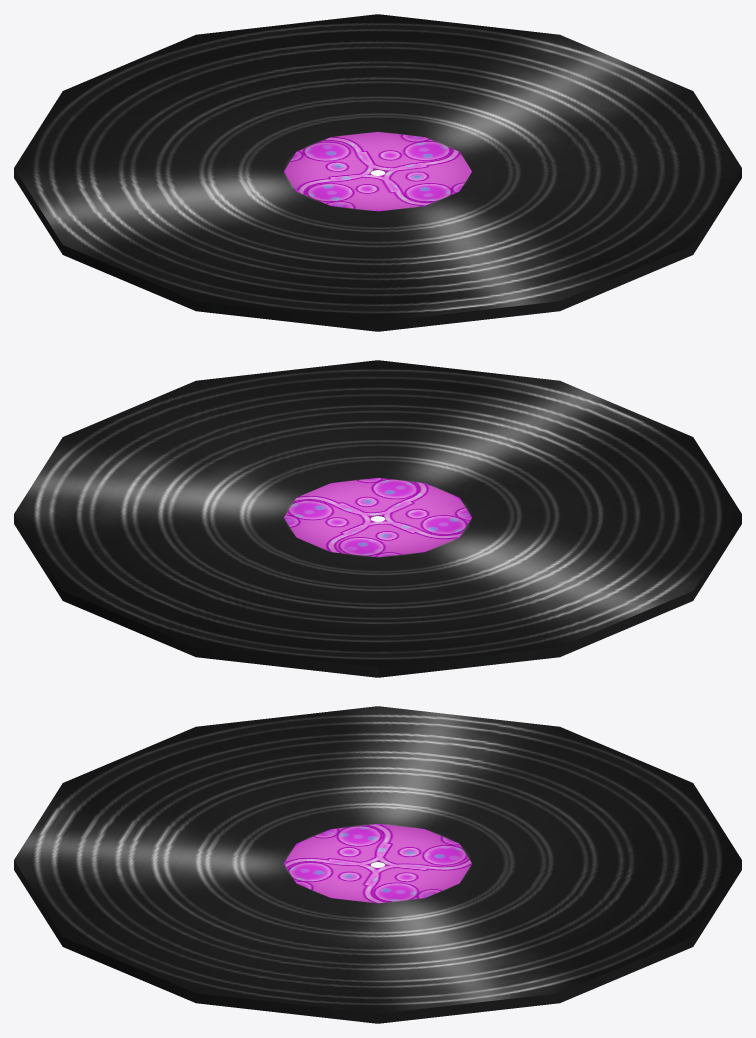
Rendered from Vinyl_07.FBX.
The picture shows the model from 3 angles, top to bottom: view 1: azimuth 30°, elevation 25°; view 2: azimuth 150°, elevation 25°; view 3: azimuth 270°, elevation 25°; orthographic projection.
Parts seen in each view (by area): view 1: Vinyl; view 2: Vinyl; view 3: Vinyl.
Boxes of the visible parts, x1=… form: Vinyl: x1=14, y1=14, x2=741, y2=331; Vinyl: x1=14, y1=360, x2=741, y2=677; Vinyl: x1=14, y1=706, x2=741, y2=1023.
Bounding box in the file's own units: 147 × 2.23 × 147.
